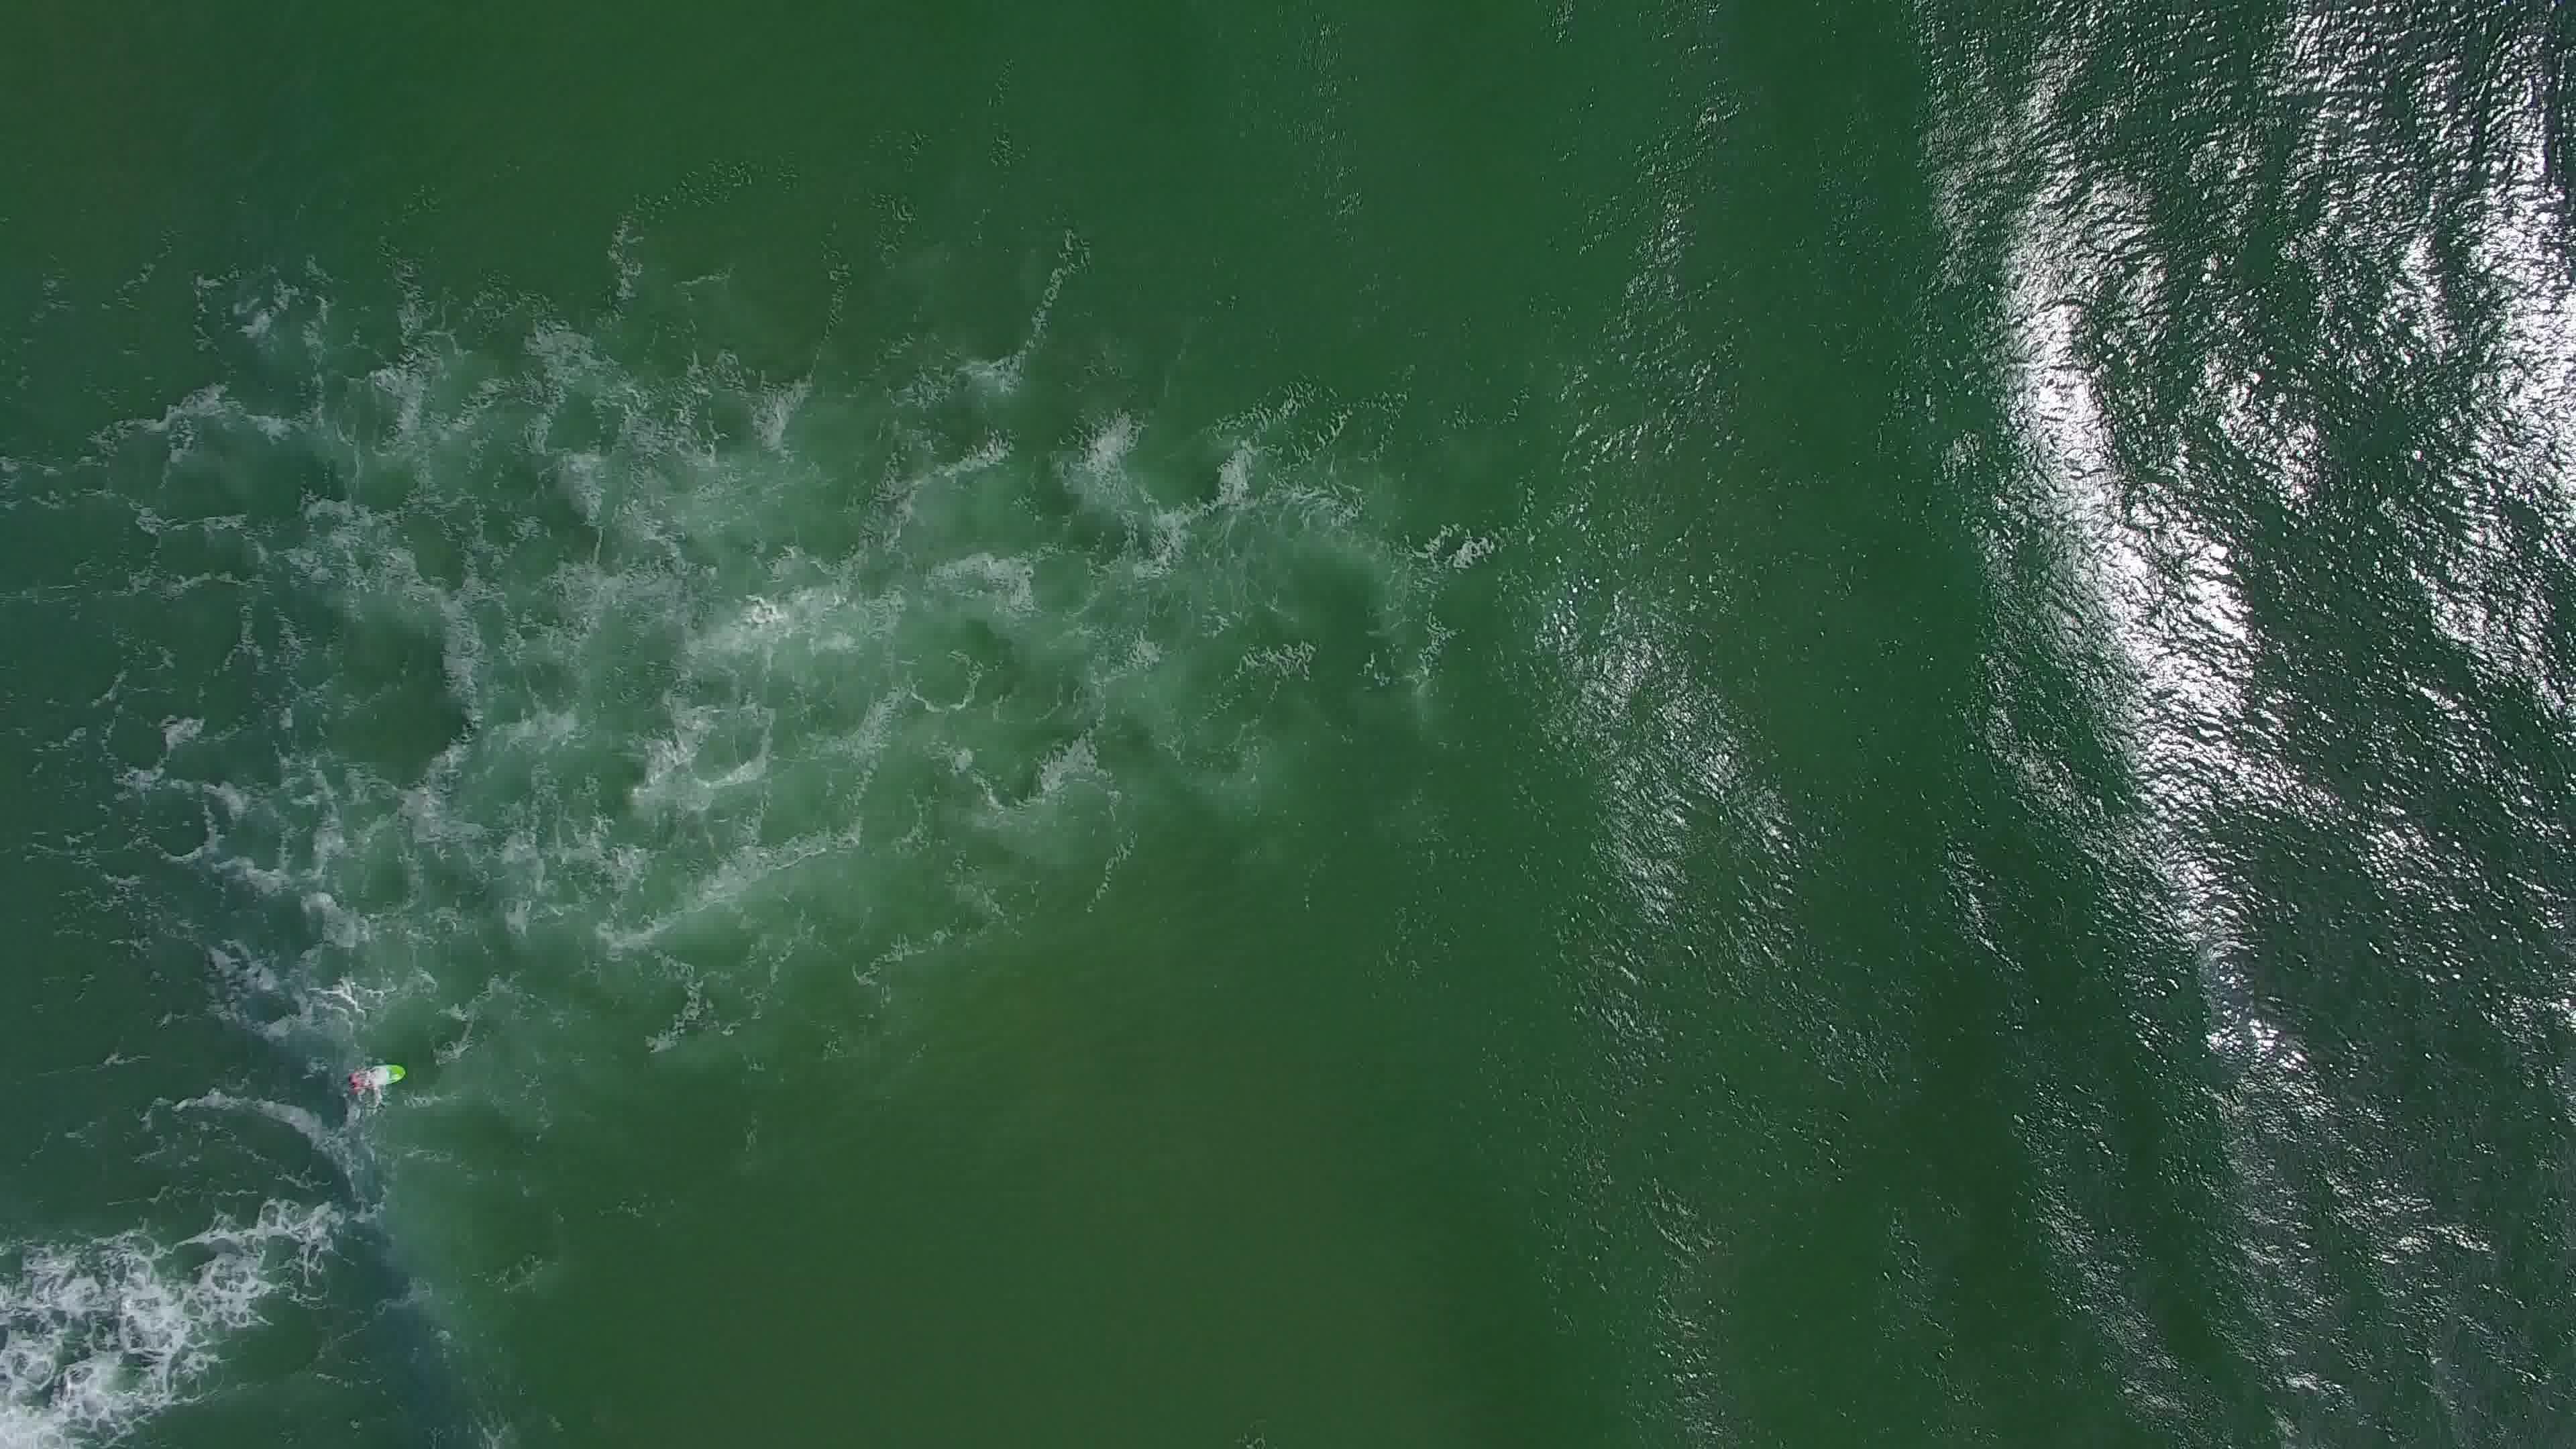surfer: (340, 1054, 409, 1097)
